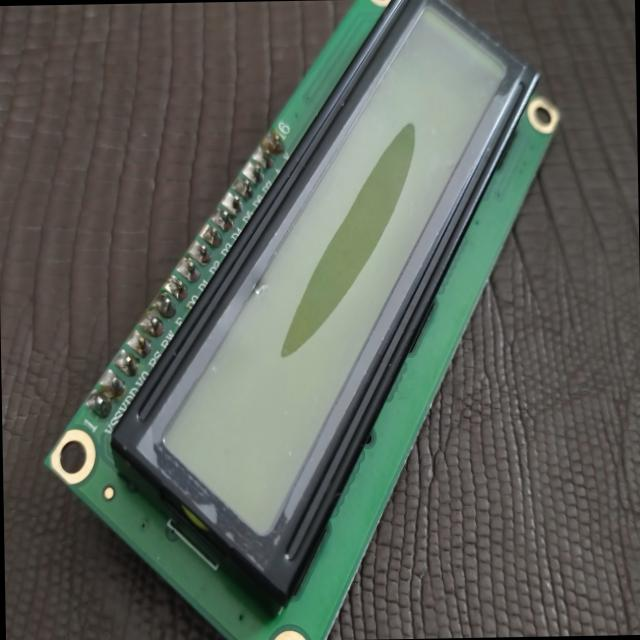lcd: (0, 0, 572, 640)
